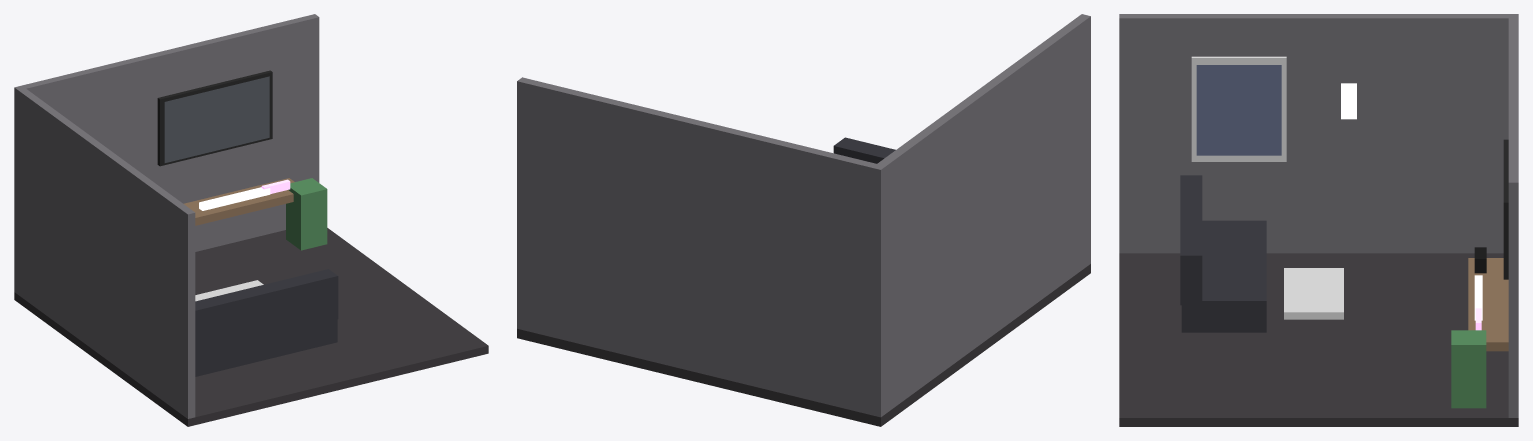
File: room_placeholder.glb
3 views of the same model, side by side, from view 1: azimuth 30°, elevation 25°; view 2: azimuth 150°, elevation 25°; view 3: azimuth 270°, elevation 25° (orthographic). The views are drawn at different scales.
Parts seen in each view (by area): view 1: Wall_Left, Wall_Back, Floor, Sofa_Back, TV_Screen, Sofa_Seat, Plant, TV_Body, Console, Soundbar, CoffeeTable; view 2: Wall_Back, Wall_Left, Floor, Sofa_Back; view 3: Wall_Left, Floor, Sofa_Seat, Picture_Image, Wall_Back, CoffeeTable, Sofa_Back, Plant, Console, Picture_Frame, TV_Body, Lamp_Wall.
Boxes of the visible parts, x1,y1,x2,y2 form: Wall_Left: [14, 87, 195, 418]; Wall_Back: [14, 14, 319, 294]; Floor: [14, 228, 488, 426]; Sofa_Back: [195, 269, 338, 353]; TV_Screen: [164, 76, 269, 162]; Sofa_Seat: [195, 319, 337, 376]; Plant: [286, 178, 327, 250]; TV_Body: [157, 70, 272, 166]; Console: [183, 178, 294, 225]; Soundbar: [199, 187, 270, 210]; CoffeeTable: [195, 280, 263, 301]; Wall_Back: [517, 77, 885, 416]; Wall_Left: [871, 14, 1090, 417]; Floor: [517, 264, 1090, 426]; Sofa_Back: [833, 137, 895, 163]; Wall_Left: [1119, 14, 1518, 253]; Floor: [1119, 253, 1518, 426]; Sofa_Seat: [1181, 220, 1266, 332]; Picture_Image: [1196, 65, 1281, 155]; Wall_Back: [1508, 14, 1518, 417]; CoffeeTable: [1284, 268, 1343, 319]; Sofa_Back: [1180, 175, 1202, 305]; Plant: [1451, 330, 1486, 408]; Console: [1468, 258, 1508, 351]; Picture_Frame: [1191, 56, 1286, 161]; TV_Body: [1503, 139, 1508, 279]; Lamp_Wall: [1341, 83, 1356, 119].
Bounding box in the file's own units: 4 × 2.7 × 4.
